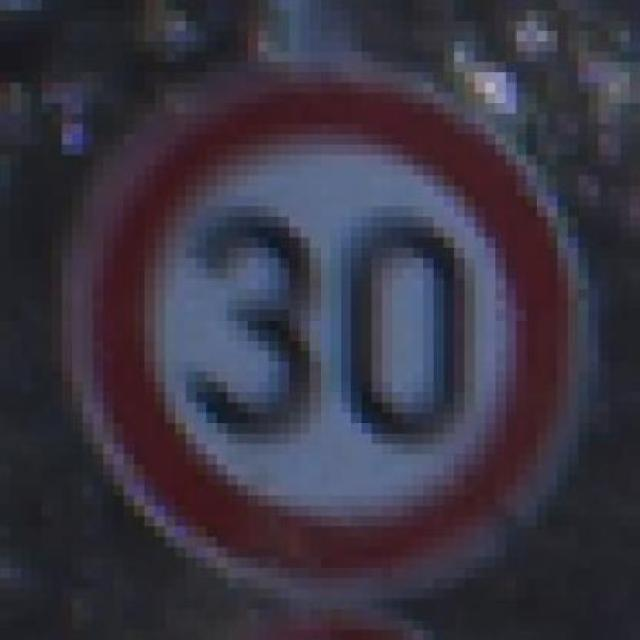Speed Limit 30 KMPh: (41, 52, 630, 599)
